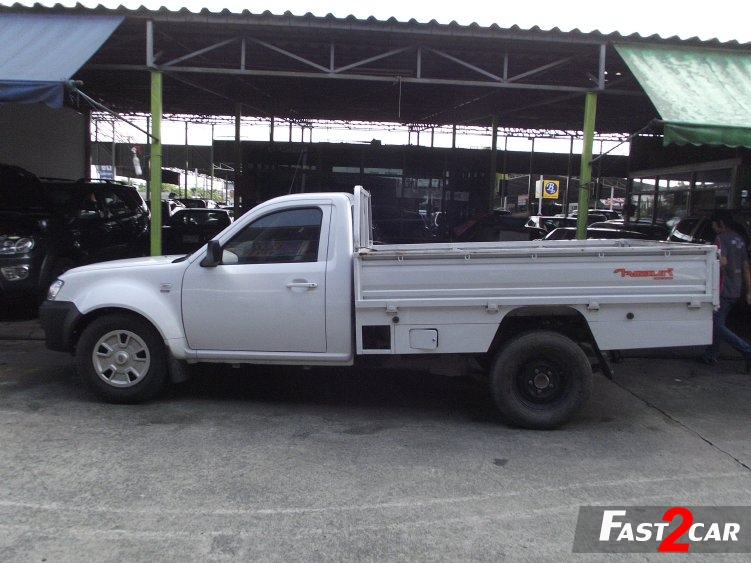pickup: (36, 187, 722, 431)
